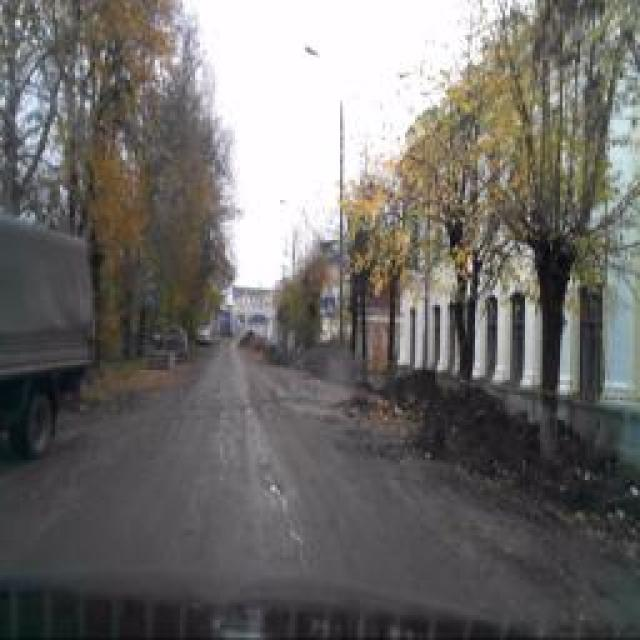sign: (143, 289, 155, 309), (325, 296, 335, 316)
